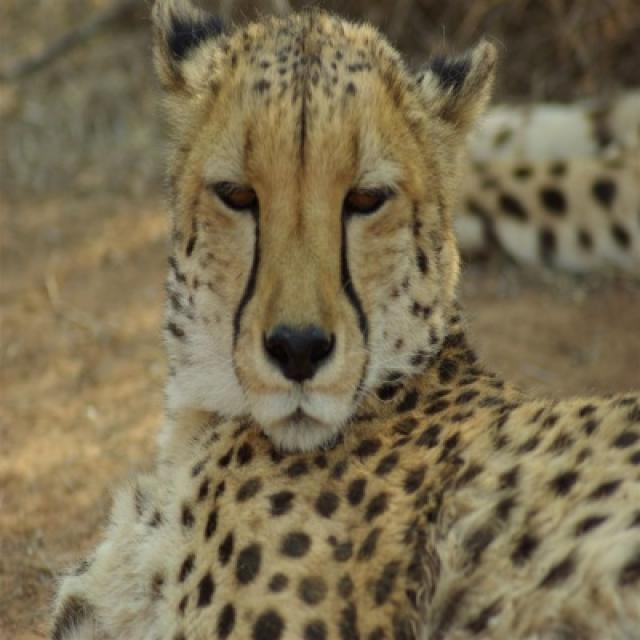Cheetah: (50, 0, 638, 638)
